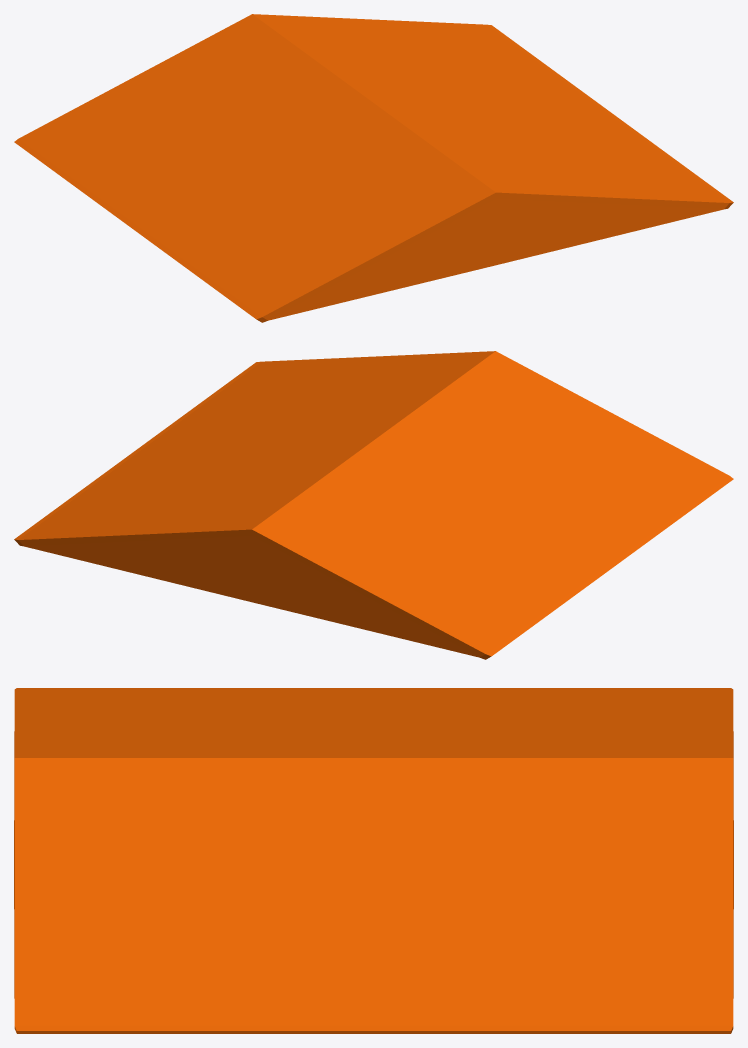
File: Roof (1).fbx
The picture shows the model from 3 angles, top to bottom: view 1: azimuth 30°, elevation 25°; view 2: azimuth 150°, elevation 25°; view 3: azimuth 270°, elevation 25°; orthographic projection. The views are drawn at different scales.
Parts seen in each view (by area): view 1: Roof; view 2: Roof; view 3: Roof.
Boxes of the visible parts, x1,y1,x2,y2 form: Roof: [14, 14, 733, 322]; Roof: [14, 351, 733, 659]; Roof: [14, 688, 733, 1033].
Bounding box in the file's own units: 8863 × 1312 × 7849.
